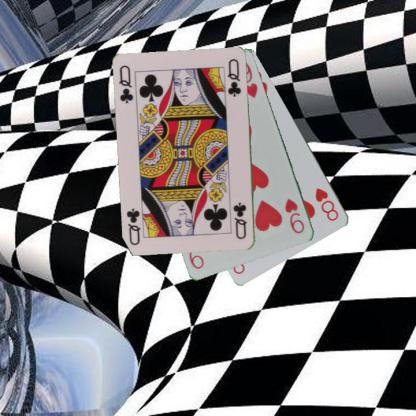8h: (313, 185, 340, 222)
9h: (283, 195, 306, 235)
Qc: (230, 200, 249, 241), (116, 63, 134, 106)
